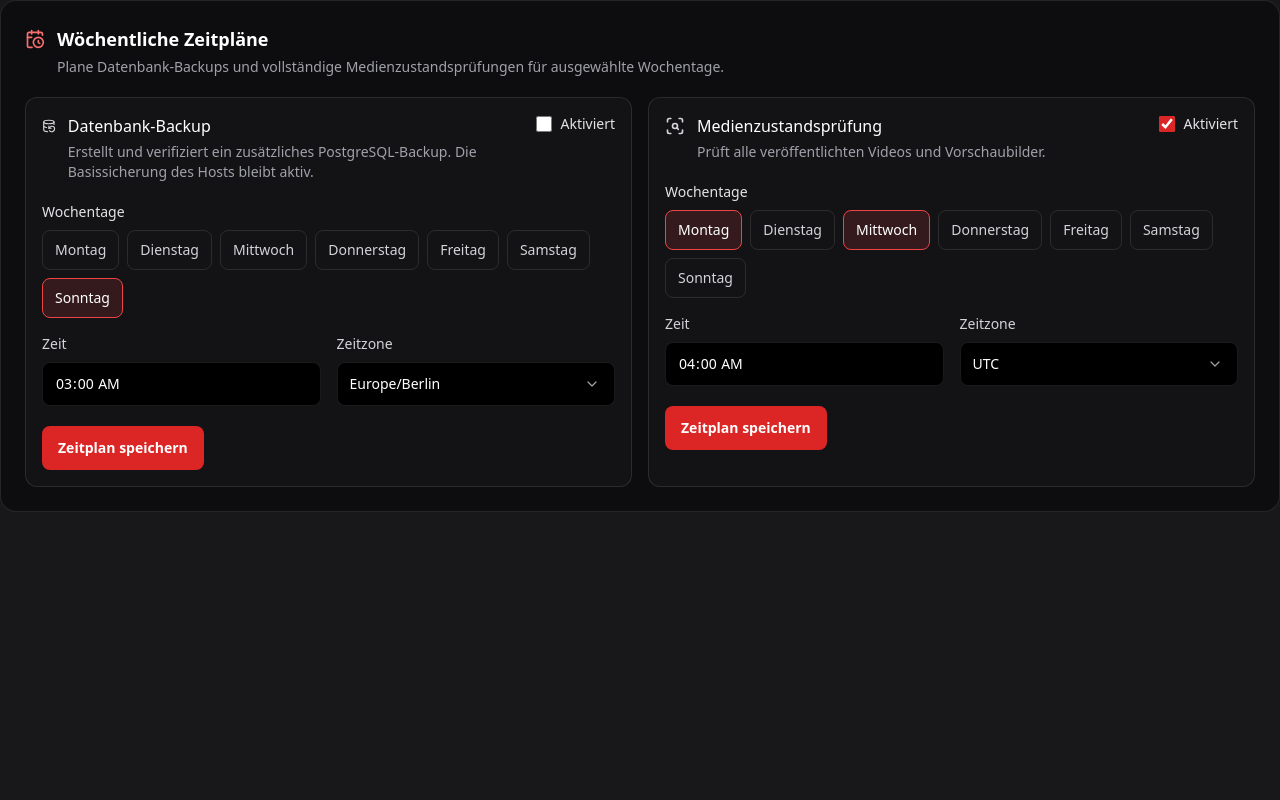
loads, edits, and saves the German weekly schedule controls
Expected: the heading "Wöchentliche Zeitpläne" is shown, [57,27,268,51]
Expected: the heading "Datenbank-Backup" is shown, [68,115,211,137]
Click the 1st checkbox labelled "Aktiviert": (544, 124) [536,116,552,132]
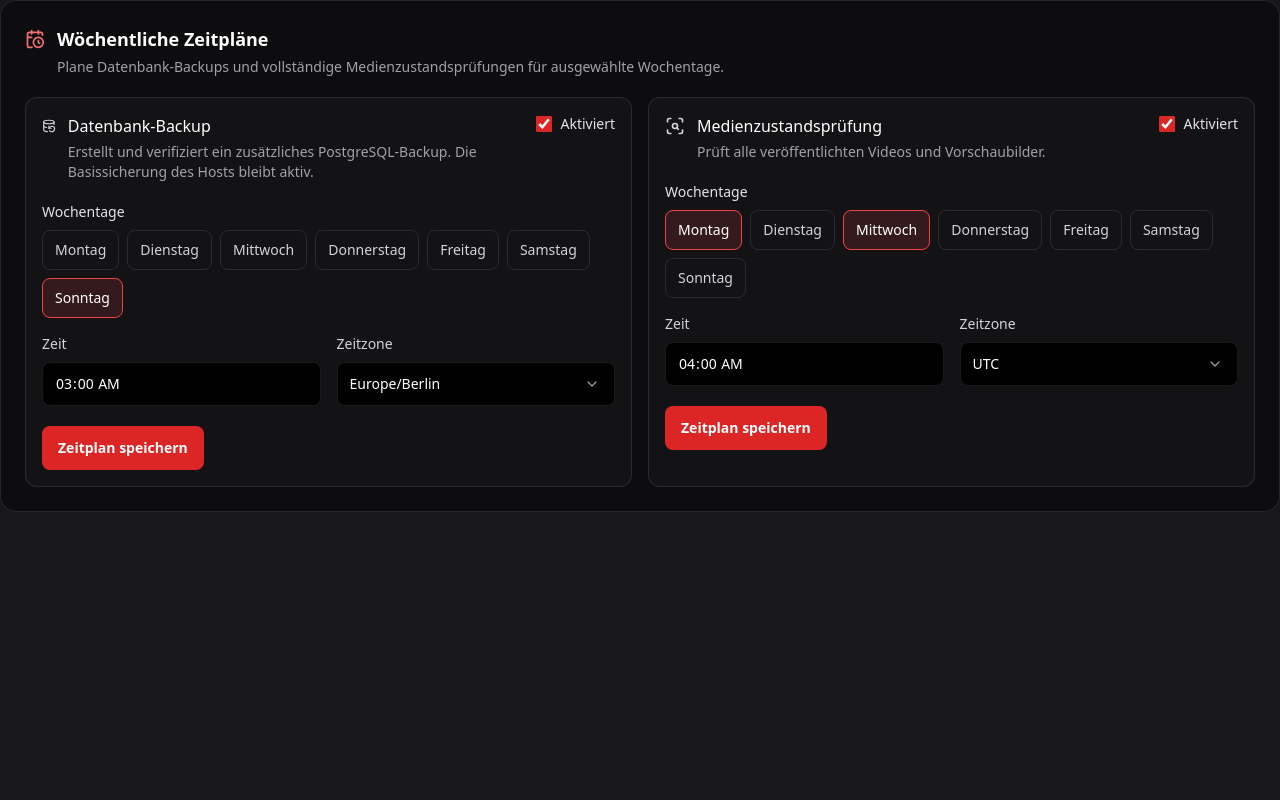
Click the 2nd button "Zeitplan speichern": (123, 448) [42,426,204,470]
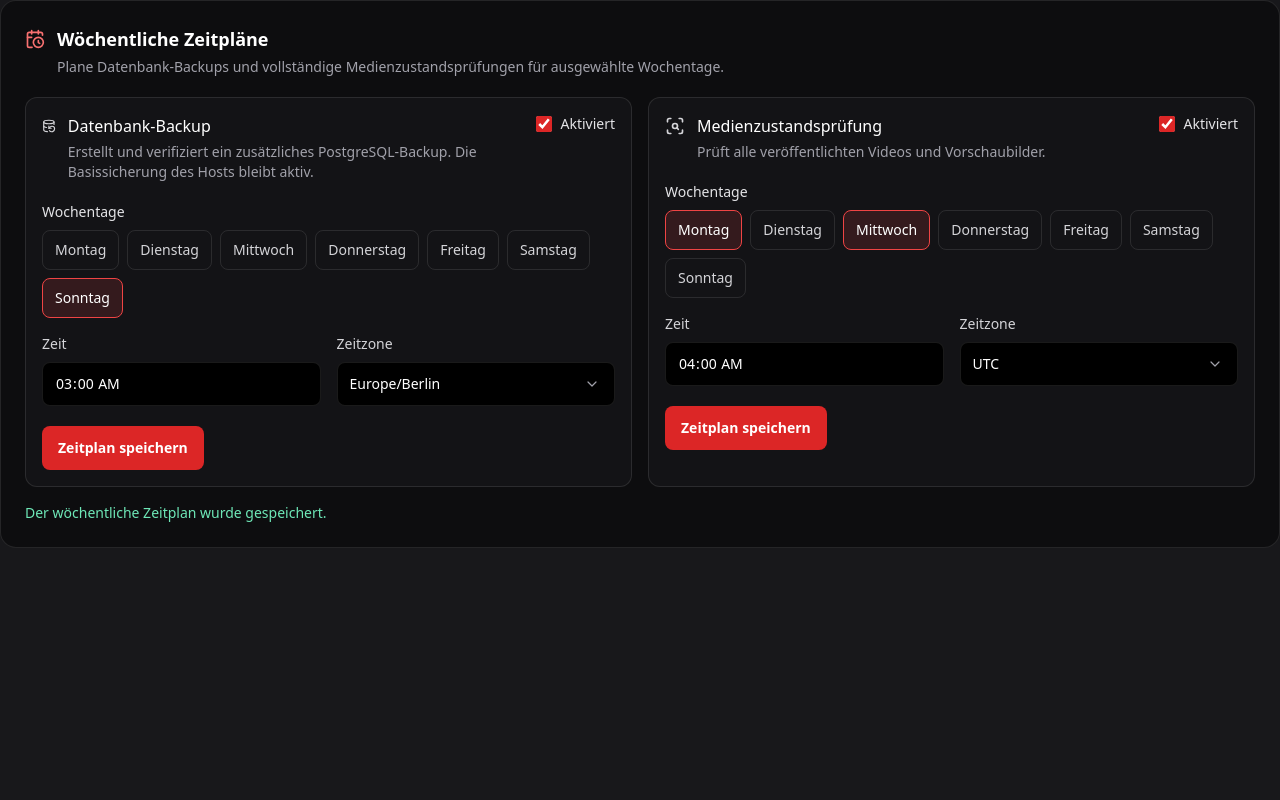
Result: the text "Der wöchentliche Zeitplan wurde gespeichert." is shown at [25,503,326,522]
